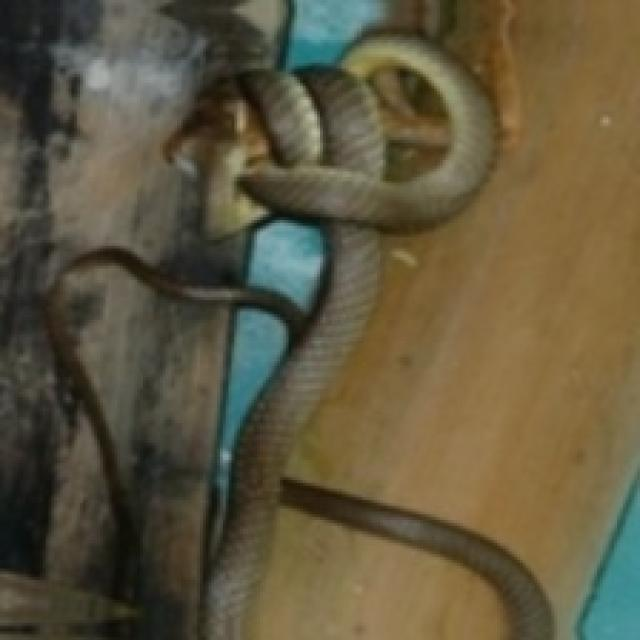paradise tree snake: (0, 0, 266, 637), (243, 223, 374, 480)
